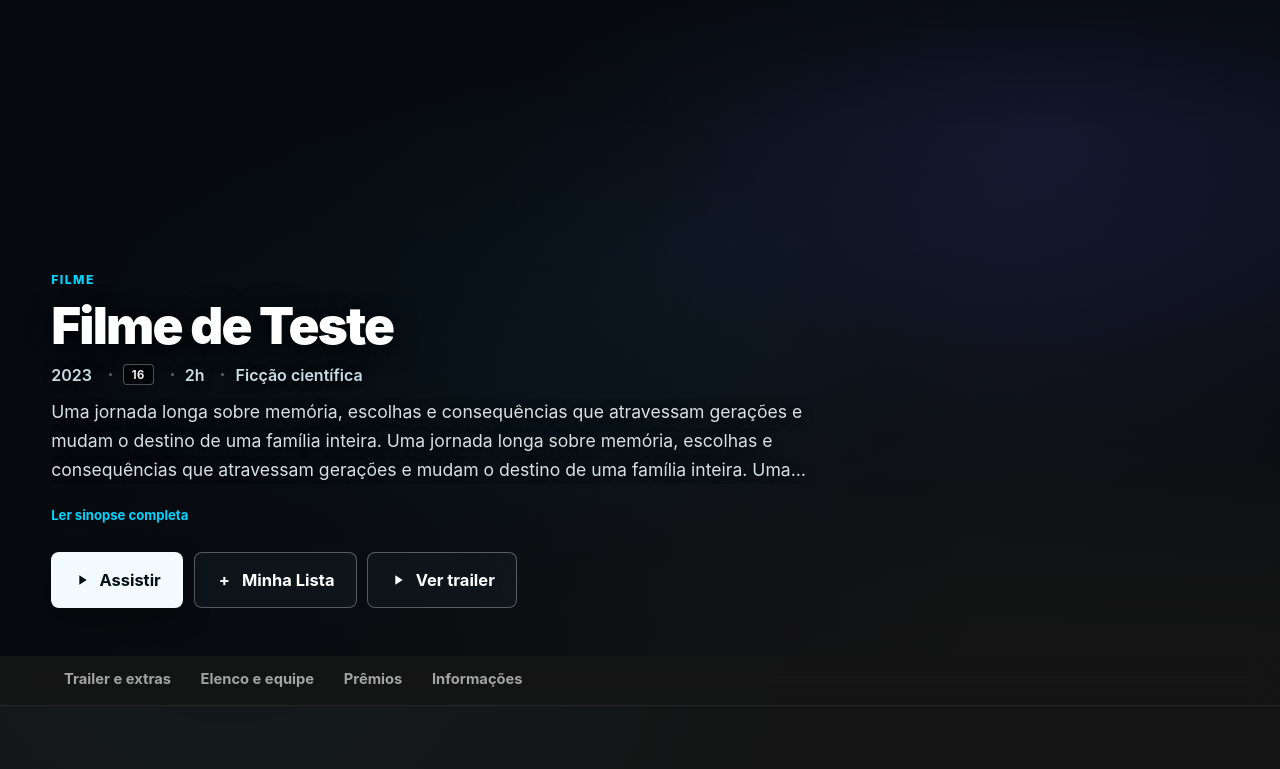
Test case: updates Minha Lista optimistically and reports the saved state
Step 1. Click the button "+ Minha Lista" → point(275, 580), box [194,552,357,608]
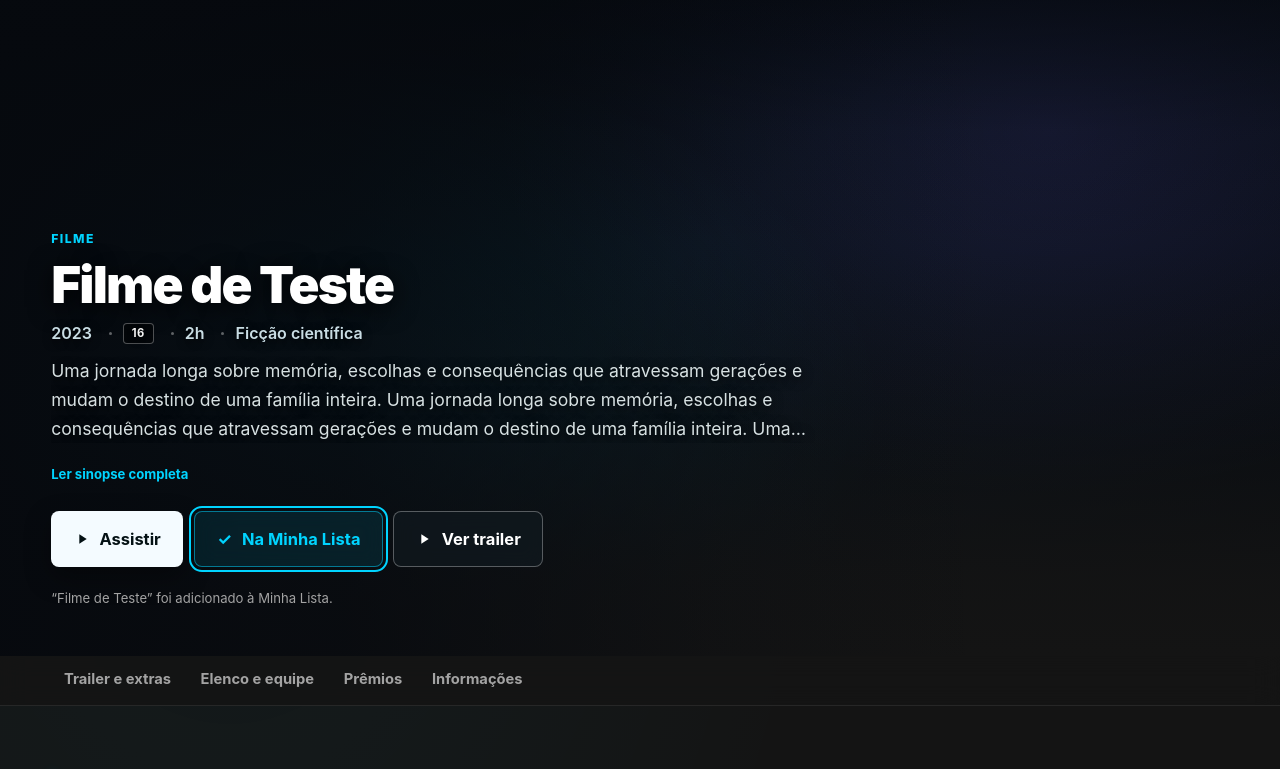
Check: the text "“Filme de Teste” foi adicionado à Minha Lista." is shown, box [51,590,333,606]
